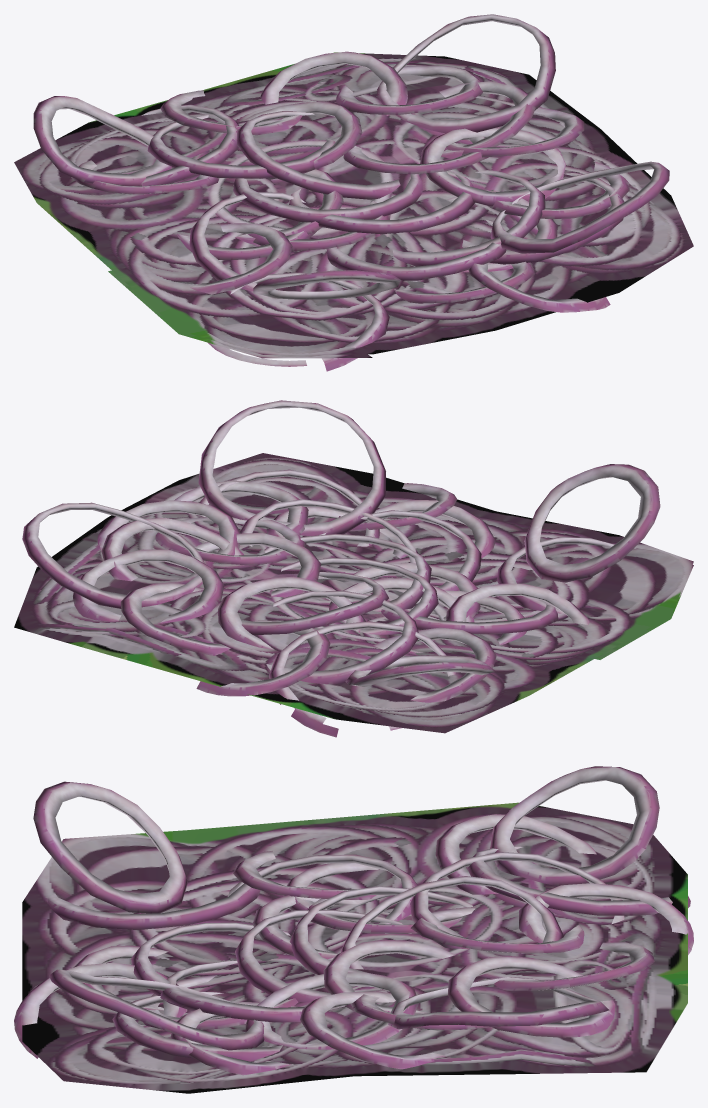
The model's file is SM_Ingredients_01c.fbx.
3 views of the same model, one above another, from view 1: azimuth 30°, elevation 25°; view 2: azimuth 150°, elevation 25°; view 3: azimuth 270°, elevation 25° (orthographic). The views are drawn at different scales.
Parts seen in each view (by area): view 1: SM_Ingredients_01c_LOD0; view 2: SM_Ingredients_01c_LOD0; view 3: SM_Ingredients_01c_LOD0.
Part boxes in pixels (x1,y1,x2,y2): SM_Ingredients_01c_LOD0: (14,14,693,371); SM_Ingredients_01c_LOD0: (14,400,693,737); SM_Ingredients_01c_LOD0: (14,766,693,1093).
Bounding box in the file's own units: 20.52 × 20.64 × 3.85.
